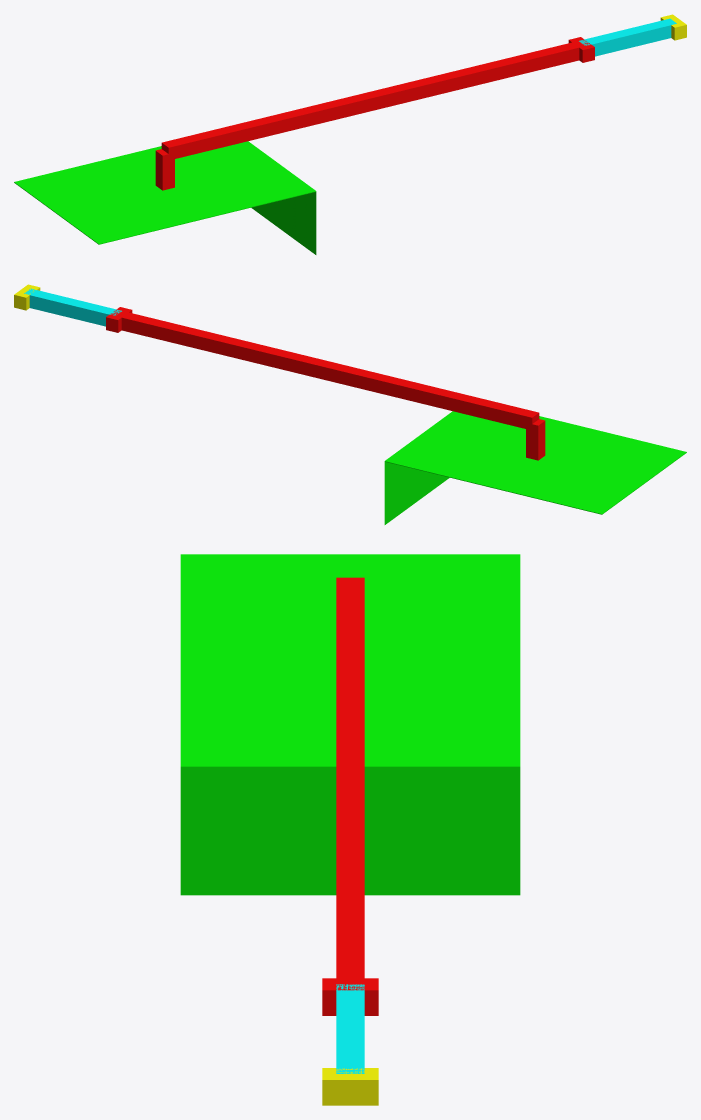
File: rsx_arm.dae
3 renders of one model, top to bottom at view 1: azimuth 30°, elevation 25°; view 2: azimuth 150°, elevation 25°; view 3: azimuth 270°, elevation 25°, orthographic. The views are drawn at different scales.
Parts seen in each view (by area): view 1: link0_base, link2_shoulder, link3_elbow, link5_wrist2, link1_waist; view 2: link0_base, link2_shoulder, link3_elbow, link5_wrist2, link1_waist, link6_wrist3; view 3: link0_base, link2_shoulder, link3_elbow, link5_wrist2, link6_wrist3, link4_wrist1.
Boxes of the visible parts, box(x1,y1,x2,y2) form: link0_base: box(14, 141, 316, 254); link2_shoulder: box(161, 89, 389, 159); link3_elbow: box(382, 41, 584, 106); link5_wrist2: box(579, 18, 676, 56); link1_waist: box(155, 149, 174, 190); link0_base: box(384, 411, 686, 524); link2_shoulder: box(311, 359, 539, 430); link3_elbow: box(116, 311, 318, 376); link5_wrist2: box(24, 288, 121, 326); link1_waist: box(526, 419, 545, 460); link6_wrist3: box(14, 284, 40, 310); link0_base: box(180, 554, 520, 895); link2_shoulder: box(336, 577, 364, 792); link3_elbow: box(336, 793, 364, 984); link5_wrist2: box(336, 984, 364, 1073); link6_wrist3: box(322, 1068, 378, 1105); link4_wrist1: box(322, 978, 378, 1015).
Size of the model in its own units: 102 by 24 by 16.5.
